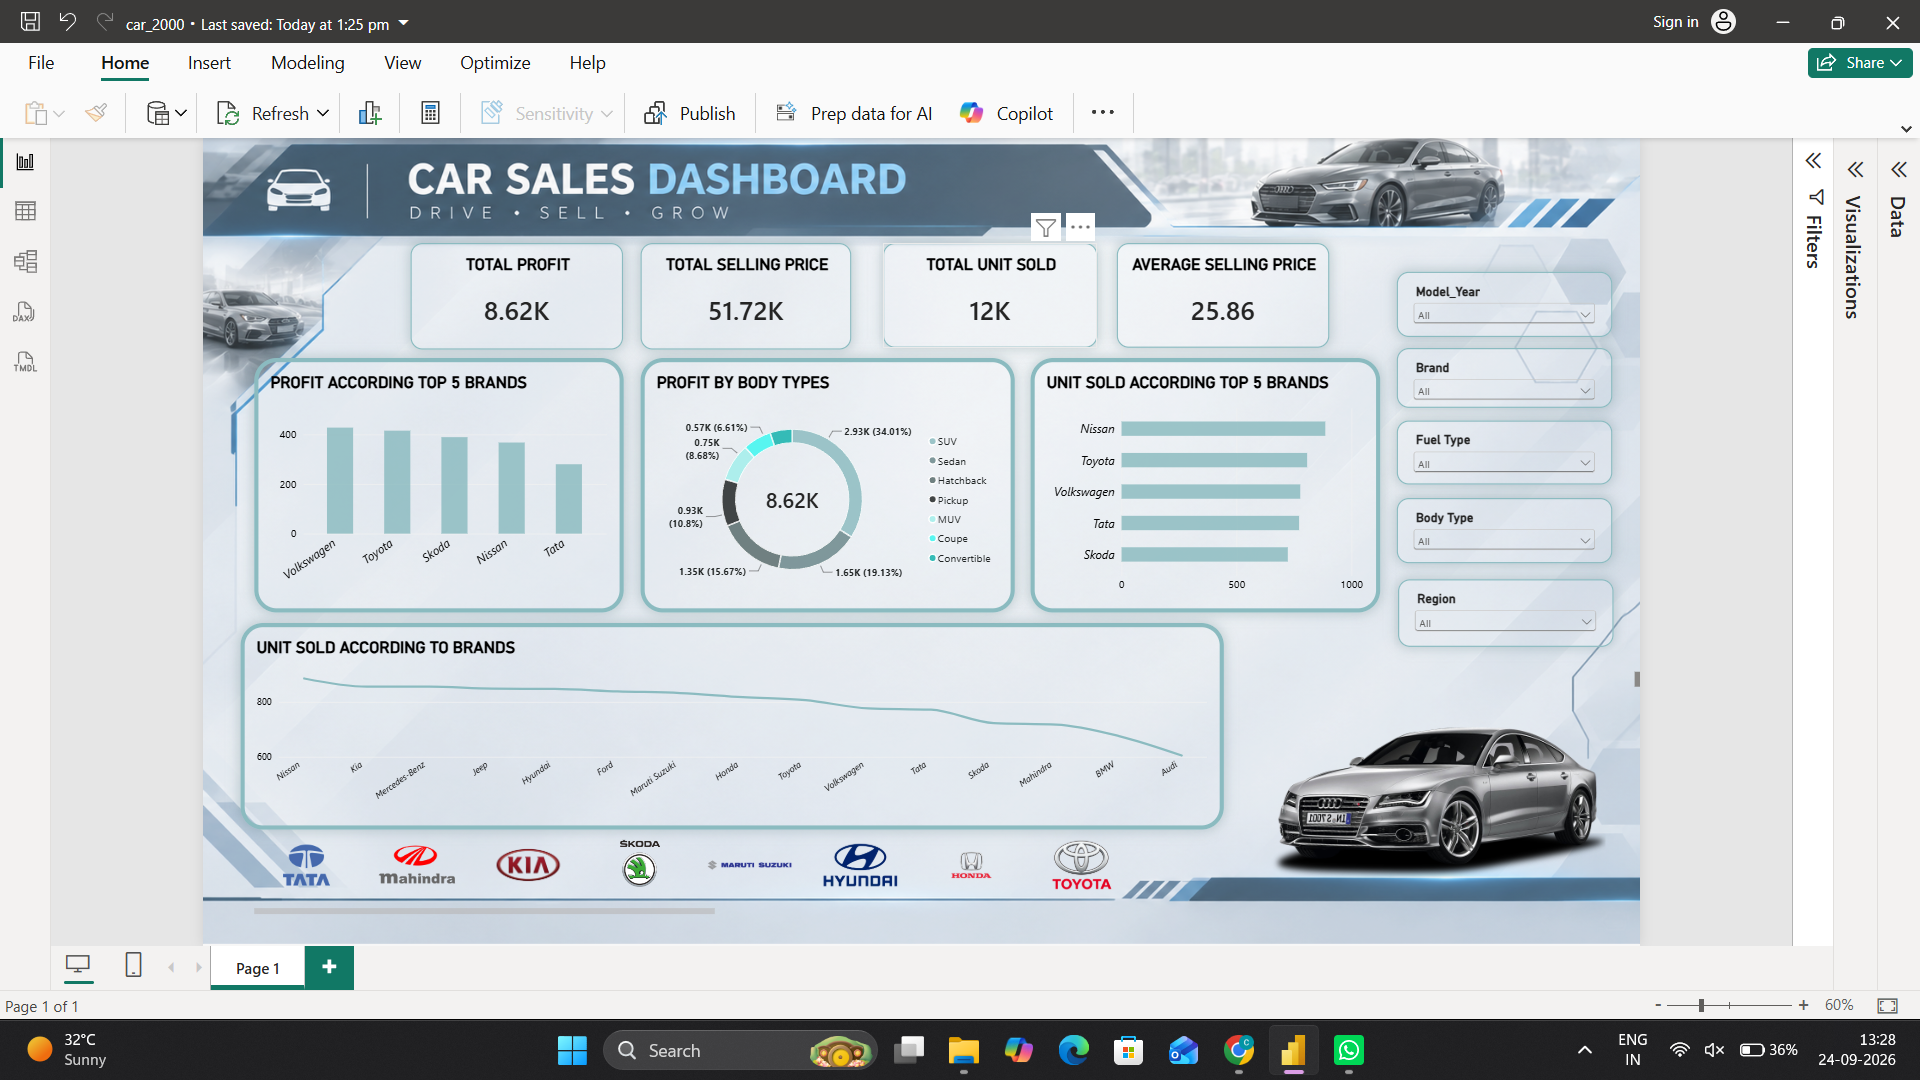

This screenshot's page, from the dashboard's own definition file:
{"tool":"powerbi","page":{"name":"Page 1","canvas":[1920,1080],"ordinal":0},"visuals":[{"type":"advancedSlicerVisual","fields":{"Values":["images.logo image"]},"box":[68.5,936.7,1167.1,102.9],"z":0},{"type":"advancedSlicerVisual","fields":{"Values":["images.car image"]},"box":[1387.3,712.2,533.1,290.2],"z":1000},{"type":"columnChart","title":"PROFIT ACCORDING TOP 5 BRANDS ","fields":{"Category":["car_sales_dashboard_2000.Brand"],"Y":["Sum(car_sales_dashboard_2000.Profit_Lakh)"]},"box":[68.5,293.9,494,339.6],"z":2000},{"type":"lineChart","title":"UNIT SOLD ACCORDING TO BRANDS","fields":{"Category":["car_sales_dashboard_2000.Brand"],"Y":["Sum(car_sales_dashboard_2000.Units_Sold)"]},"box":[49.4,648.4,1313.2,275.8],"z":3000},{"type":"barChart","title":"UNIT SOLD ACCORDING TOP 5 BRANDS","fields":{"Category":["car_sales_dashboard_2000.Brand"],"Y":["Sum(car_sales_dashboard_2000.Units_Sold)"]},"box":[1105.3,294.3,467.2,339.6],"z":4000},{"type":"donutChart","title":"PROFIT BY BODY TYPES","fields":{"Category":["car_sales_dashboard_2000.Body_Type"],"Y":["Sum(car_sales_dashboard_2000.Profit_Lakh)"]},"box":[584.6,294.3,500.2,339.6],"z":5000},{"type":"slicer","fields":{"Values":["car_sales_dashboard_2000.Region"]},"box":[1595.9,589.5,287.8,90.7],"z":6000},{"type":"slicer","fields":{"Values":["car_sales_dashboard_2000.Body_Type"]},"box":[1594.2,481.4,287.8,87.2],"z":7000},{"type":"slicer","fields":{"Values":["car_sales_dashboard_2000.Fuel_Type"]},"box":[1594.2,376.7,287.8,85.5],"z":8000},{"type":"slicer","fields":{"Values":["car_sales_dashboard_2000.Brand"]},"box":[1594.2,280.8,287.8,80.2],"z":9000},{"type":"card","title":"TOTAL PROFIT","fields":{"Values":["Sum(car_sales_dashboard_2000.Profit_Lakh)"]},"box":[277.9,140,284,142],"z":10000},{"type":"card","title":"TOTAL SELLING PRICE","fields":{"Values":["Sum(car_sales_dashboard_2000.Selling_Price_Lakh)"]},"box":[584.6,140,282,142],"z":11000},{"type":"card","title":"TOTAL UNIT SOLD","fields":{"Values":["Sum(car_sales_dashboard_2000.Units_Sold)"]},"box":[907.7,140,286.1,140],"z":11001},{"type":"card","title":"AVERAGE SELLING PRICE","fields":{"Values":["Avg(car_sales_dashboard_2000.Selling_Price_Lakh)"]},"box":[1220.6,140,284,140],"z":11002},{"type":"slicer","fields":{"Values":["car_sales_dashboard_2000.Model_Year"]},"box":[1594.2,177.9,287.8,87.2],"z":11003}]}

Visuals, with their boxes on the page's 1920x1080 design canvas (x1, y1, x2, y2). These are canvas units, not pixel positions in the 1920x1080 screenshot, which may show the page scaled, cropped or inside an application window:
advancedSlicerVisual - images.logo image: x1=68, y1=937, x2=1236, y2=1040
advancedSlicerVisual - images.car image: x1=1387, y1=712, x2=1920, y2=1002
"PROFIT ACCORDING TOP 5 BRANDS " columnChart: x1=68, y1=294, x2=562, y2=634
"UNIT SOLD ACCORDING TO BRANDS" lineChart: x1=49, y1=648, x2=1363, y2=924
"UNIT SOLD ACCORDING TOP 5 BRANDS" barChart: x1=1105, y1=294, x2=1572, y2=634
"PROFIT BY BODY TYPES" donutChart: x1=585, y1=294, x2=1085, y2=634
slicer - car_sales_dashboard_2000.Region: x1=1596, y1=590, x2=1884, y2=680
slicer - car_sales_dashboard_2000.Body_Type: x1=1594, y1=481, x2=1882, y2=569
slicer - car_sales_dashboard_2000.Fuel_Type: x1=1594, y1=377, x2=1882, y2=462
slicer - car_sales_dashboard_2000.Brand: x1=1594, y1=281, x2=1882, y2=361
"TOTAL PROFIT" card: x1=278, y1=140, x2=562, y2=282
"TOTAL SELLING PRICE" card: x1=585, y1=140, x2=867, y2=282
"TOTAL UNIT SOLD" card: x1=908, y1=140, x2=1194, y2=280
"AVERAGE SELLING PRICE" card: x1=1221, y1=140, x2=1505, y2=280
slicer - car_sales_dashboard_2000.Model_Year: x1=1594, y1=178, x2=1882, y2=265
